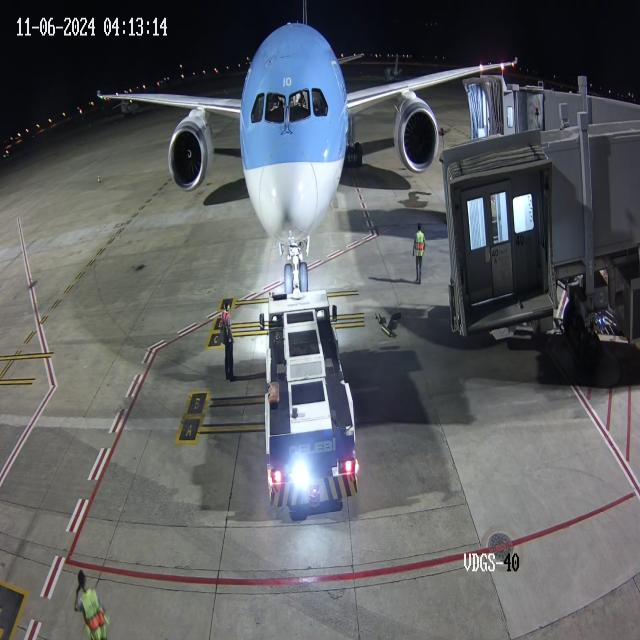bridge: (486, 76, 546, 146)
plane: (82, 0, 440, 295)
window: (248, 84, 334, 136)
